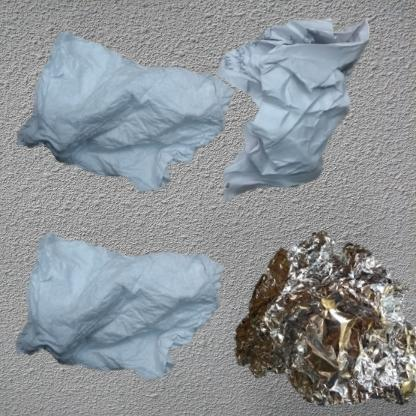aluminio: (213, 213, 416, 416)
papel: (10, 10, 278, 246), (10, 213, 249, 413), (213, 10, 371, 206)
